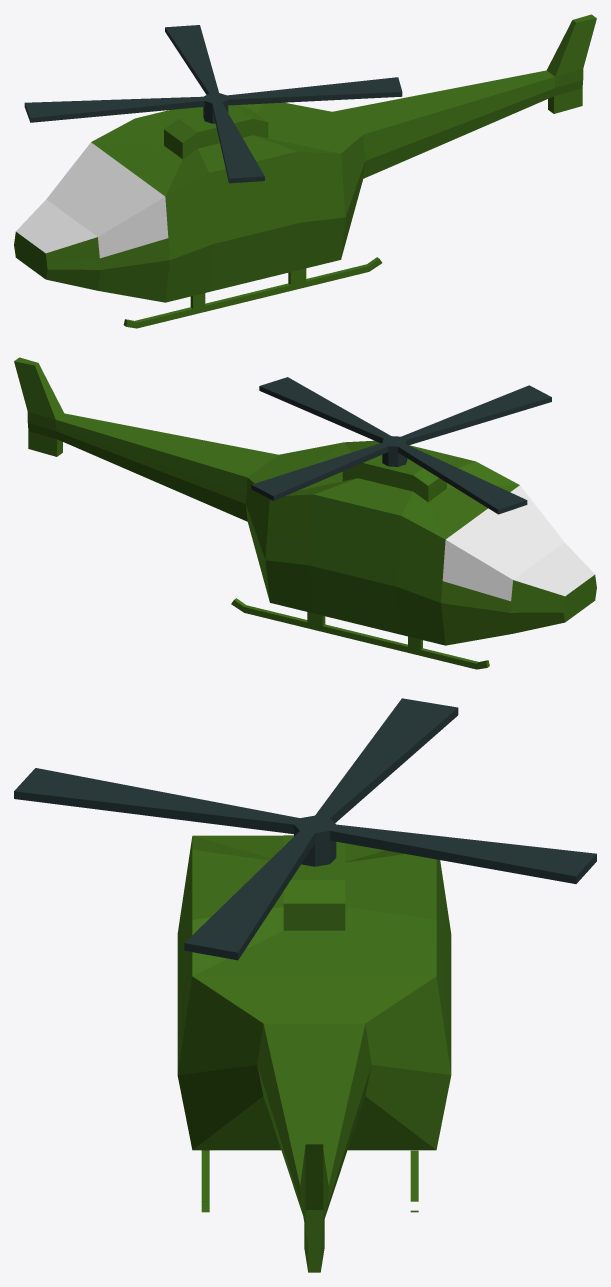
The model's file is Helicopter.fbx.
3 renders of one model, top to bottom at view 1: azimuth 30°, elevation 25°; view 2: azimuth 150°, elevation 25°; view 3: azimuth 270°, elevation 25°, orthographic. The views are drawn at different scales.
Parts seen in each view (by area): view 1: Cube, Cylinder; view 2: Cube, Cylinder; view 3: Cube, Cylinder.
Part boxes in pixels (x1,y1,x2,y2): Cube: (14, 14, 596, 328); Cylinder: (24, 25, 402, 183); Cube: (14, 357, 596, 669); Cylinder: (251, 377, 551, 514); Cube: (177, 835, 451, 1272); Cylinder: (14, 698, 596, 960).
Bounding box in the file's own units: 1286 × 387 × 702.
